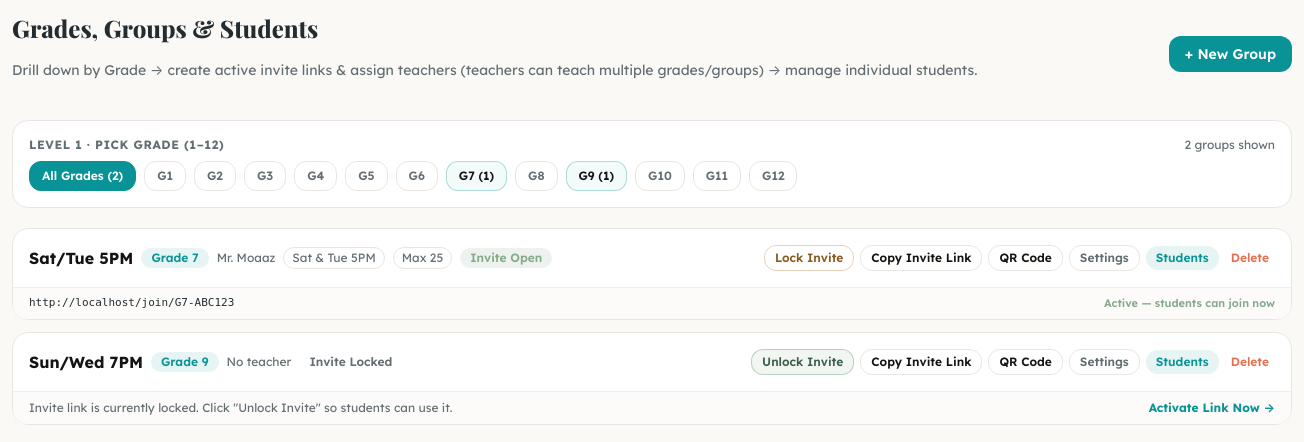
it: AdminClasses — 3-Level Grade → Group → Student Drill-Down Manager › Level 1: filters groups by Grade 1–12 pills
This screenshot has width=1304, height=442.
Expected: the text "Sat/Tue 5PM" is shown, [29, 246, 133, 270]
Expected: the text "Sun/Wed 7PM" is shown, [29, 350, 143, 374]
What coordinates should you click on to do the following:
click the button "G7 (1)"
I would click on:
 (476, 176)
Its box is [446, 161, 507, 191].
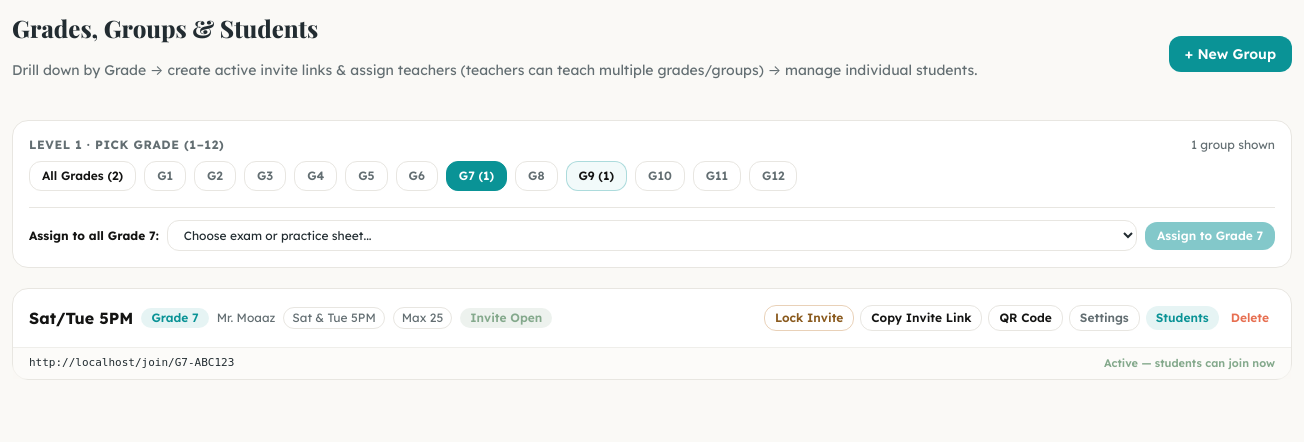
Expected: the text "Sat/Tue 5PM" is shown, [29, 306, 133, 330]
Expected: the button "Sun/Wed 7PM" is gone
